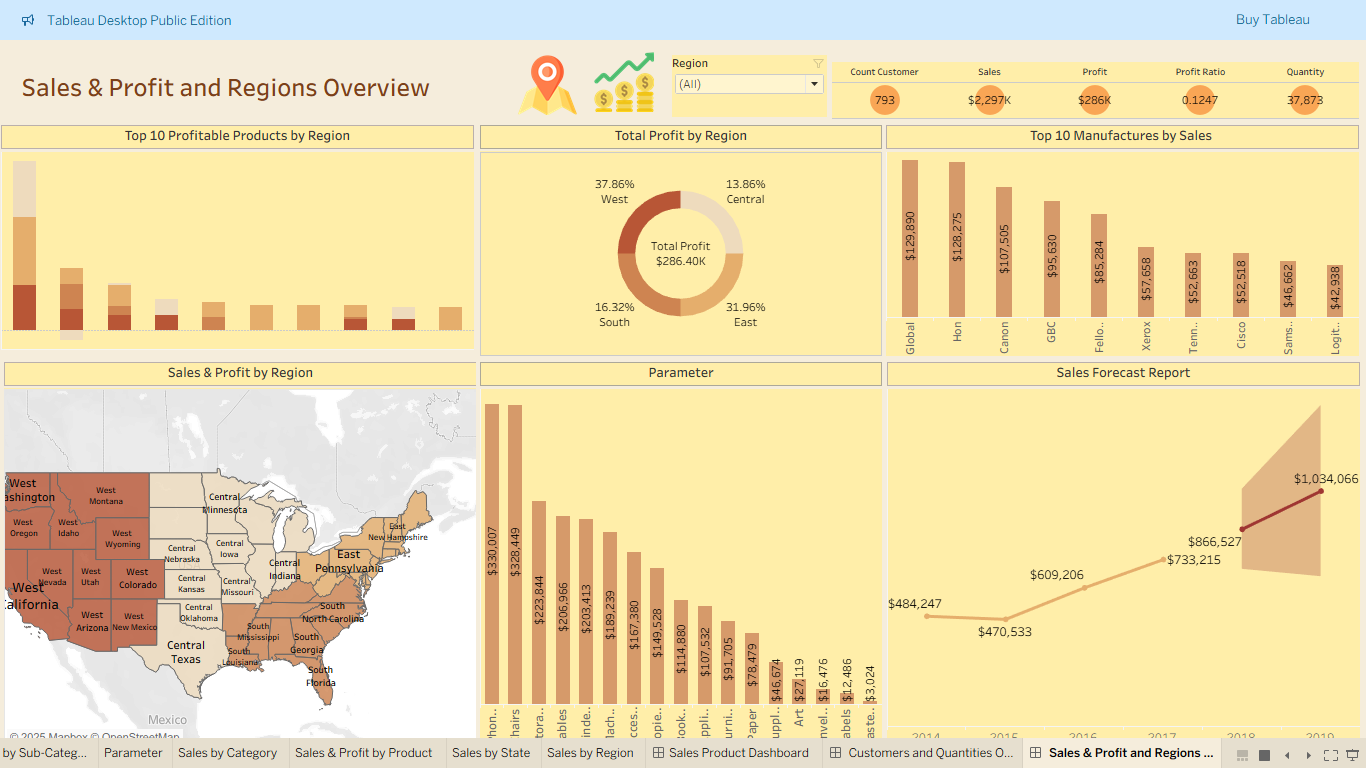

The page's visual inventory and layout, read from the dashboard file:
{"tool":"tableau","page":{"name":" Sales & Profit and Regions Overview","canvas":[1000,1000],"units":"permille","ordinal":1},"visuals":[{"type":"dashboard-object","box":[435.1,16.1,44.1,90.4]},{"type":"title","box":[10.3,18.1,401.2,94.4]},{"type":"dashboard-object","box":[373.7,22.1,54.5,86.4]},{"type":"filter","title":"Sales & Profit by Region","param":"[federated.0cttr4411x85ri1f59v9301q28ty].[none:Region:nk]","box":[492.2,22.1,113.3,88.4]},{"type":"worksheet","title":"KPIS","mark":"Circle","box":[609,32.1,385.8,88.4]},{"type":"worksheet","title":"Top 10 Profitable Products by Region","mark":"Bar","rows":["Profit"],"cols":["Product Name"],"box":[0.9,122.5,346,331.3]},{"type":"worksheet","title":"Total Profit by Region","mark":"Pie","rows":["Calculation_484981413223178243","Calculation_484981413223178243"],"box":[351.2,122.5,294.1,331.3]},{"type":"worksheet","title":"Top 10 Manufactures by Sales ","mark":"Bar","rows":["Sales"],"cols":["Calculation_484981413641916424"],"box":[648.8,122.5,346,331.3]}]}

Visuals, with their boxes on the dashboard's canvas, which has no fixed pixel size, in thousandths of its width and height (x1, y1, x2, y2). These are canvas units, not pixel positions in the 1366x768 screenshot, which may show the page scaled, cropped or inside an application window:
dashboard-object: BBox(435, 16, 479, 106)
title: BBox(10, 18, 412, 112)
dashboard-object: BBox(374, 22, 428, 108)
"Sales & Profit by Region" filter: BBox(492, 22, 606, 110)
"KPIS" worksheet (Circle marks): BBox(609, 32, 995, 120)
"Top 10 Profitable Products by Region" worksheet (Bar marks): BBox(1, 122, 347, 454)
"Total Profit by Region" worksheet (Pie marks): BBox(351, 122, 645, 454)
"Top 10 Manufactures by Sales " worksheet (Bar marks): BBox(649, 122, 995, 454)
